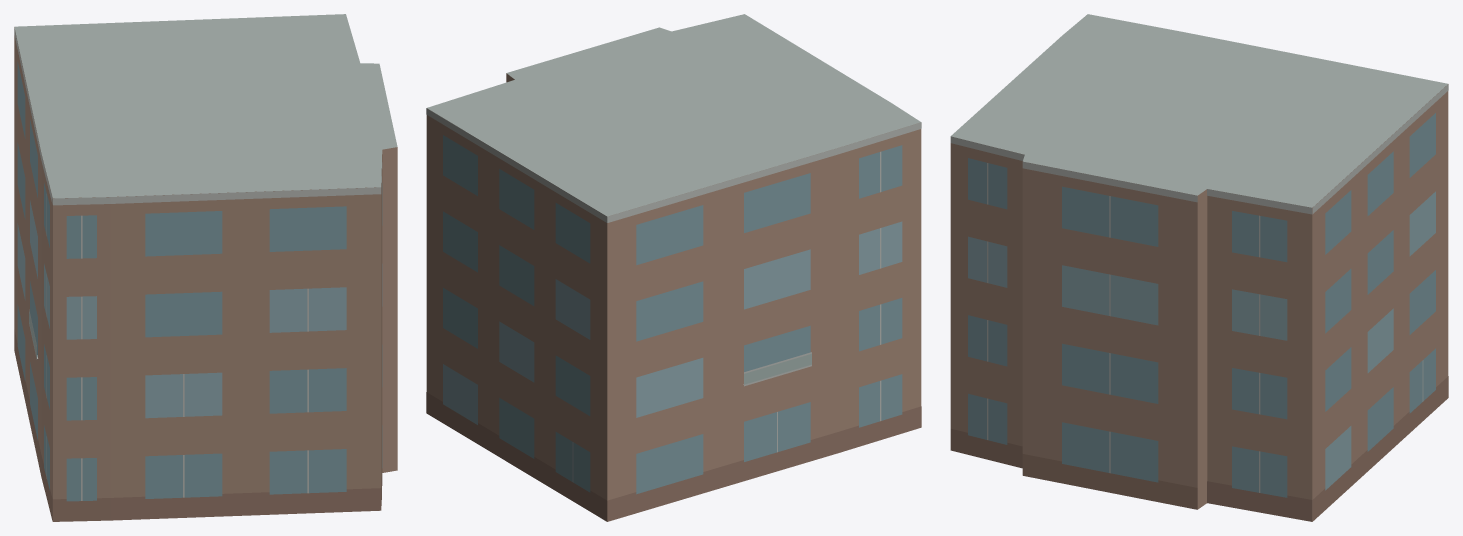
Rendered from survey-upis-32525921.glb.
3 renders of one model, left to right at view 1: azimuth 30°, elevation 25°; view 2: azimuth 150°, elevation 25°; view 3: azimuth 270°, elevation 25°, orthographic. The views are drawn at different scales.
Parts seen in each view (by area): view 1: survey-upis-32525921.tmp; view 2: survey-upis-32525921.tmp; view 3: survey-upis-32525921.tmp.
Part boxes in pixels (left/top/right/bottom): survey-upis-32525921.tmp: left=14, top=14, right=397, bottom=521; survey-upis-32525921.tmp: left=426, top=14, right=921, bottom=521; survey-upis-32525921.tmp: left=950, top=14, right=1448, bottom=521.
Bounding box in the file's own units: 14.96 × 11.3 × 16.24.
